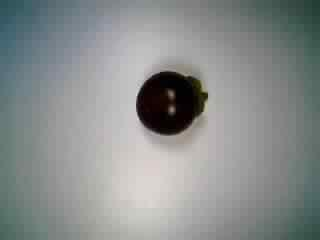mangosteen: (133, 65, 210, 140)
